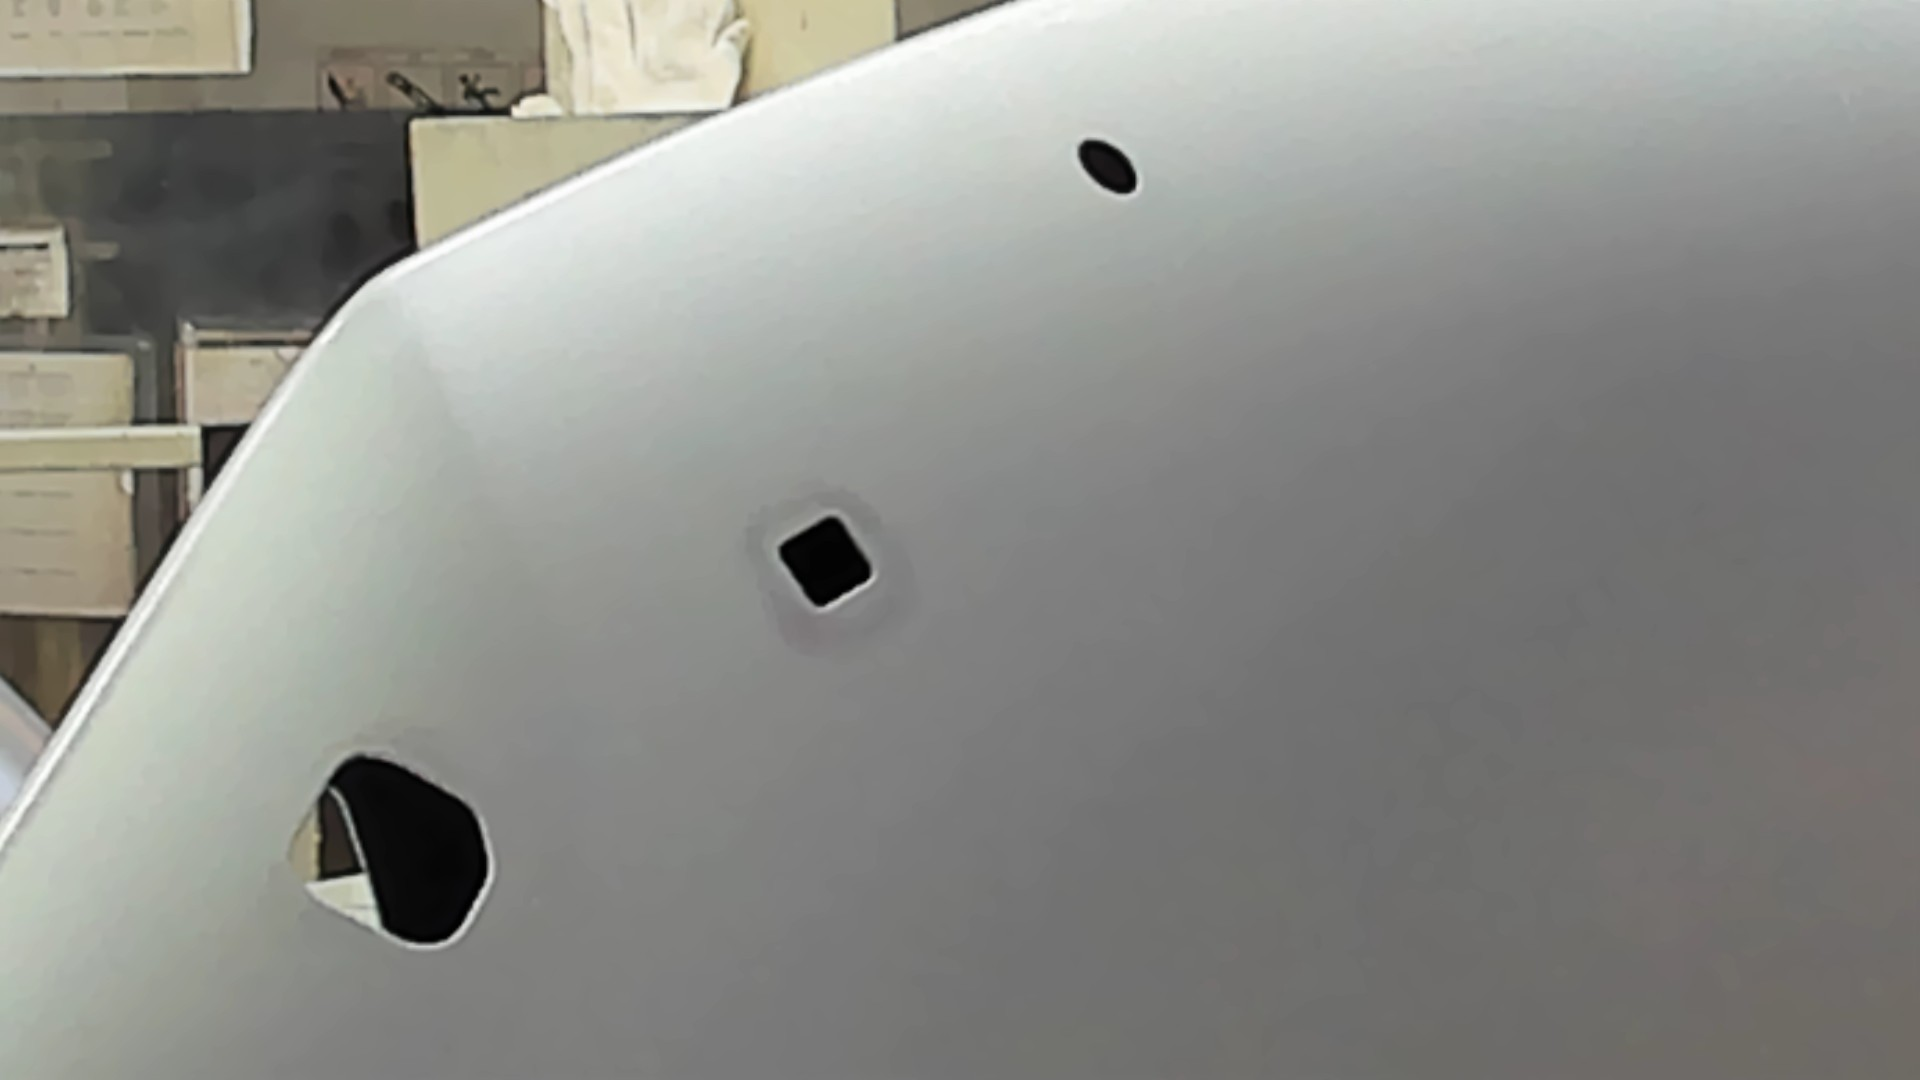capo: (898, 211, 1920, 1080)
chico: (1072, 131, 1146, 199)
grande: (276, 745, 505, 955)
mediano: (769, 502, 884, 618)
